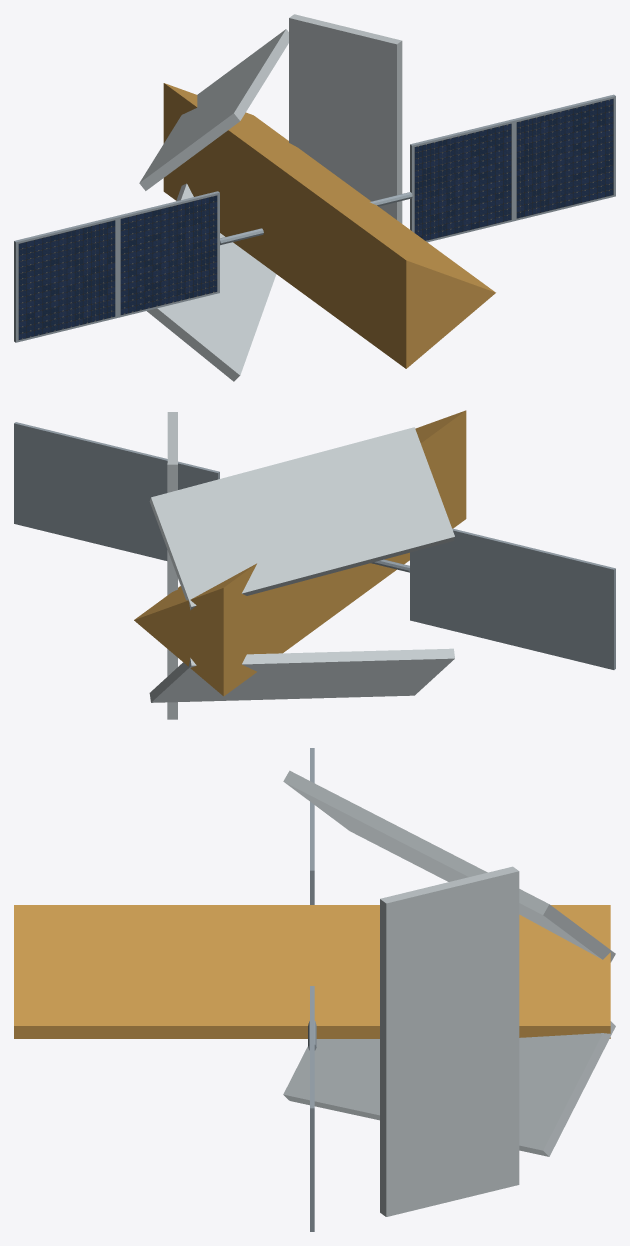
Rendered from iridium-original.glb.
3 views of the same model, one above another, from view 1: azimuth 30°, elevation 25°; view 2: azimuth 150°, elevation 25°; view 3: azimuth 270°, elevation 25° (orthographic). The views are drawn at different scales.
Visible parts, largest first — view 1: Photovoltaic laminates (×4), Triangular core, Main mission antenna (×3), Array frame (×4); view 2: Main mission antenna (×3), Array frame (×4), Triangular core; view 3: Main mission antenna (×3), Triangular core, Array frame.
Part boxes in pixels (left/top/right/bottom): Photovoltaic laminates (×4): left=18, top=98, right=613, bottom=339; Triangular core: left=163, top=83, right=495, bottom=368; Main mission antenna (×3): left=139, top=14, right=402, bottom=381; Array frame (×4): left=14, top=94, right=615, bottom=342; Main mission antenna (×3): left=149, top=412, right=454, bottom=719; Array frame (×4): left=14, top=422, right=615, bottom=669; Triangular core: left=134, top=410, right=466, bottom=696; Main mission antenna (×3): left=283, top=770, right=615, bottom=1216; Triangular core: left=14, top=905, right=610, bottom=1038; Array frame: left=310, top=1047, right=314, bottom=1231.
Bounding box in the file's own units: 5 × 2.14 × 3.53.
Materials: 4 (1 with a texture image).
